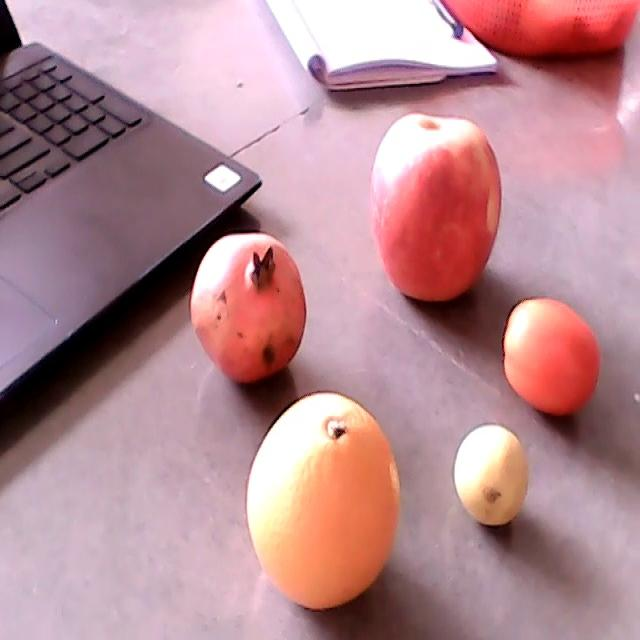apple: (368, 111, 502, 301)
lemon: (453, 424, 529, 526)
orange: (245, 391, 401, 610)
pomegranate: (190, 232, 307, 386)
tomato: (503, 298, 601, 415)
